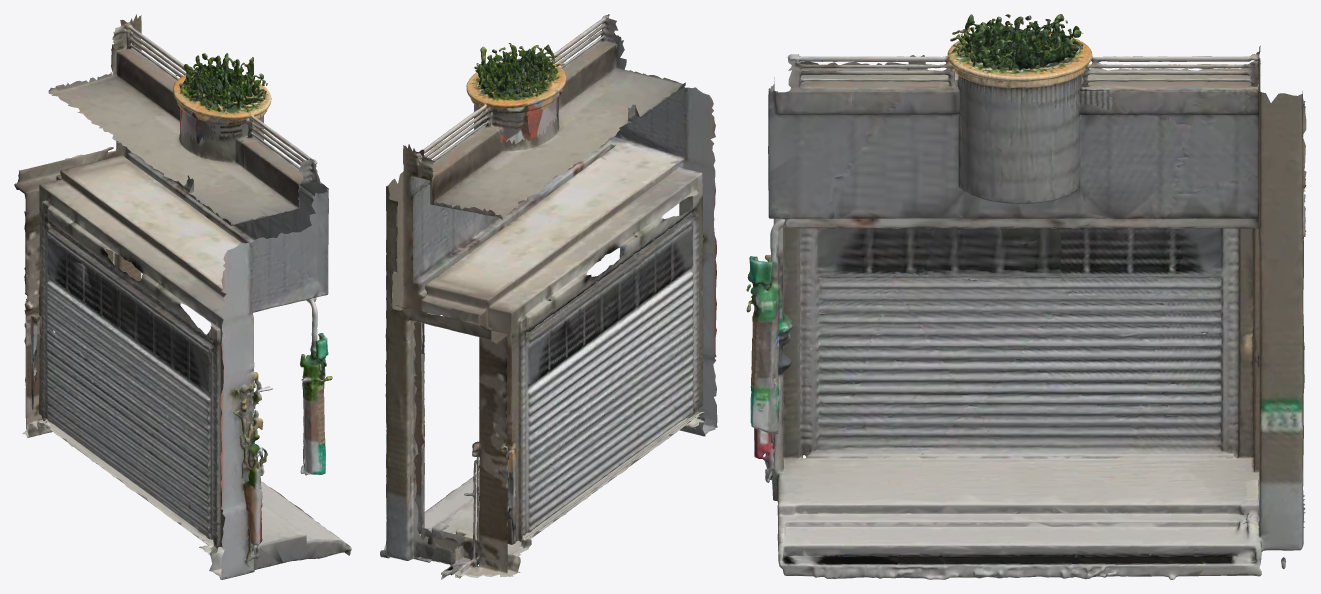
The picture shows the model from 3 angles, left to right: view 1: azimuth 30°, elevation 25°; view 2: azimuth 150°, elevation 25°; view 3: azimuth 270°, elevation 25°; orthographic projection. The views are drawn at different scales.
Visible parts, largest first — view 1: Meshy_AI_Urban_Facade_0106035826_texture; view 2: Meshy_AI_Urban_Facade_0106035826_texture; view 3: Meshy_AI_Urban_Facade_0106035826_texture.
Part boxes in pixels (x1,y1,x2,y2): Meshy_AI_Urban_Facade_0106035826_texture: (14, 14, 351, 579); Meshy_AI_Urban_Facade_0106035826_texture: (380, 14, 717, 579); Meshy_AI_Urban_Facade_0106035826_texture: (746, 14, 1306, 579).
Size of the model in its own units: 0.3858 by 1.14 by 1.07.
Materials: 1 (1 with a texture image).
